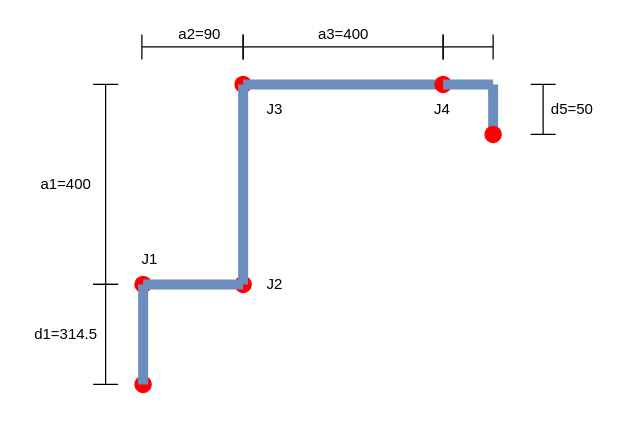
Some shapes in this 624 by 434 pixel diagram are drawn without their labels. The shapes that lost their labels are listed below. From the top down, each one's box as (x1, y1, x2, y2) in pixels, then its label:
(442, 33, 493, 59): a4=110
(464, 106, 521, 162): J5
